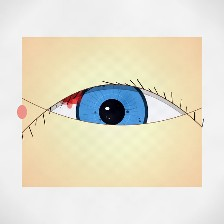hemorrhage_spot: (47, 60, 141, 135)
